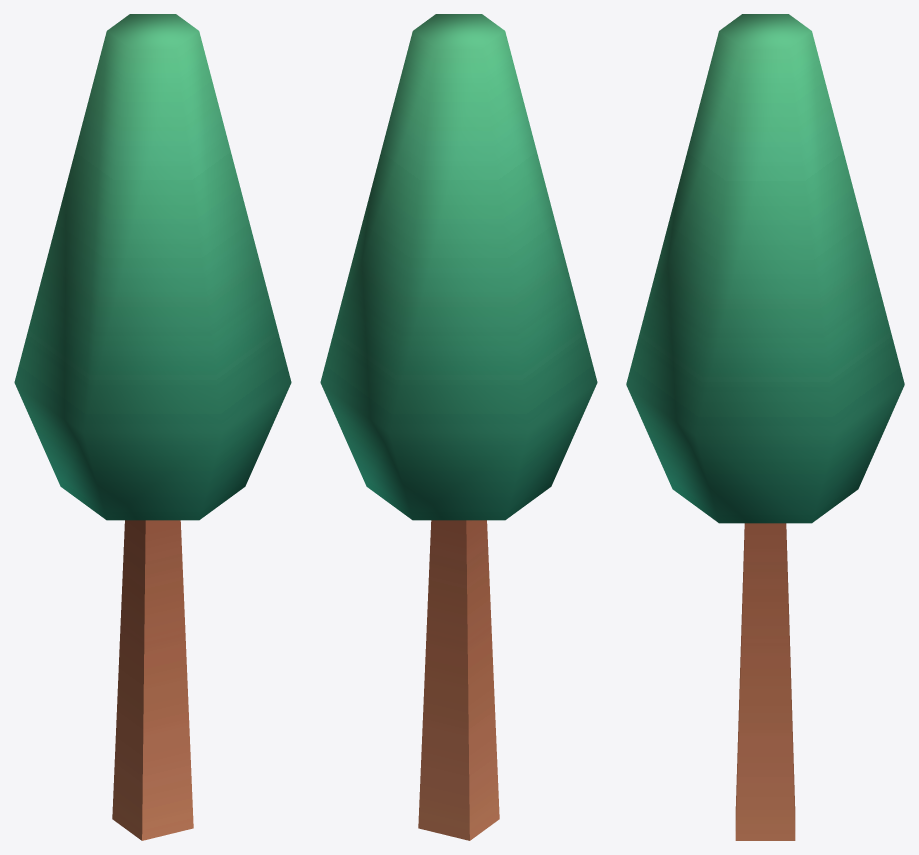
File: suburban-tree-large.glb
3 renders of one model, left to right at view 1: azimuth 30°, elevation 25°; view 2: azimuth 150°, elevation 25°; view 3: azimuth 270°, elevation 25°, orthographic.
Parts seen in each view (by area): view 1: tree-large; view 2: tree-large; view 3: tree-large.
Boxes of the visible parts, left/top/right/bottom form: tree-large: left=14, top=14, right=291, bottom=840; tree-large: left=320, top=14, right=597, bottom=840; tree-large: left=626, top=14, right=904, bottom=840.
Size of the model in its own units: 0.2104 by 0.767 by 0.243.
Materials: 1 (1 with a texture image).
